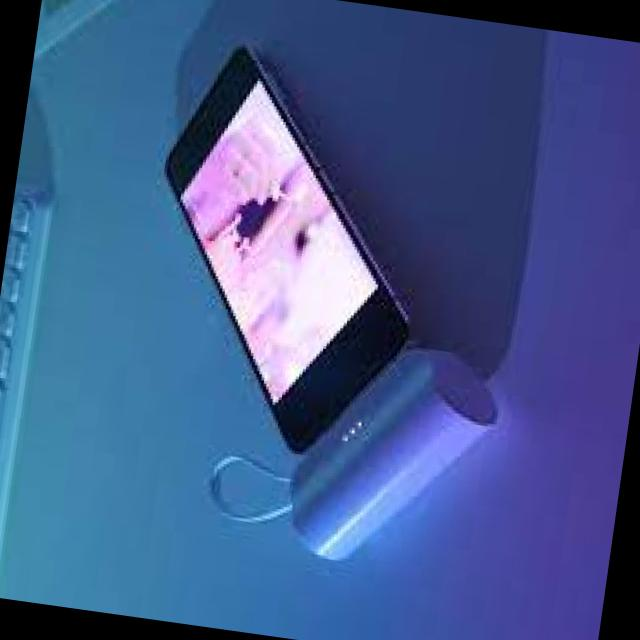power_bank: (272, 318, 513, 581)
